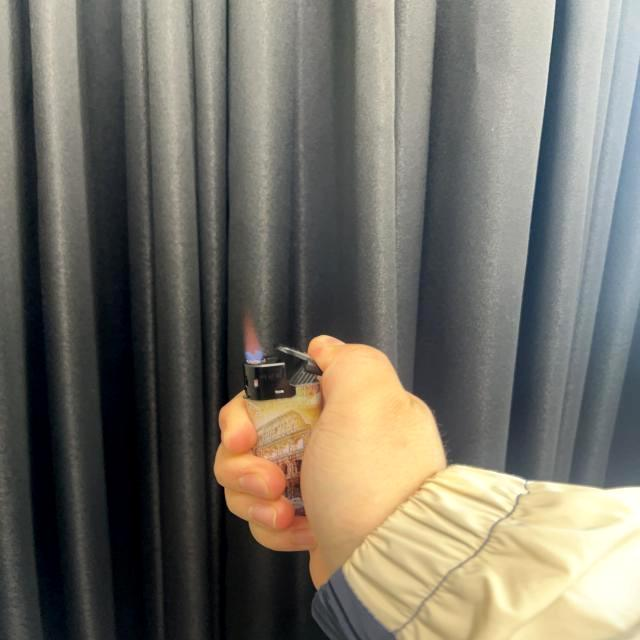fire: (239, 310, 265, 362)
